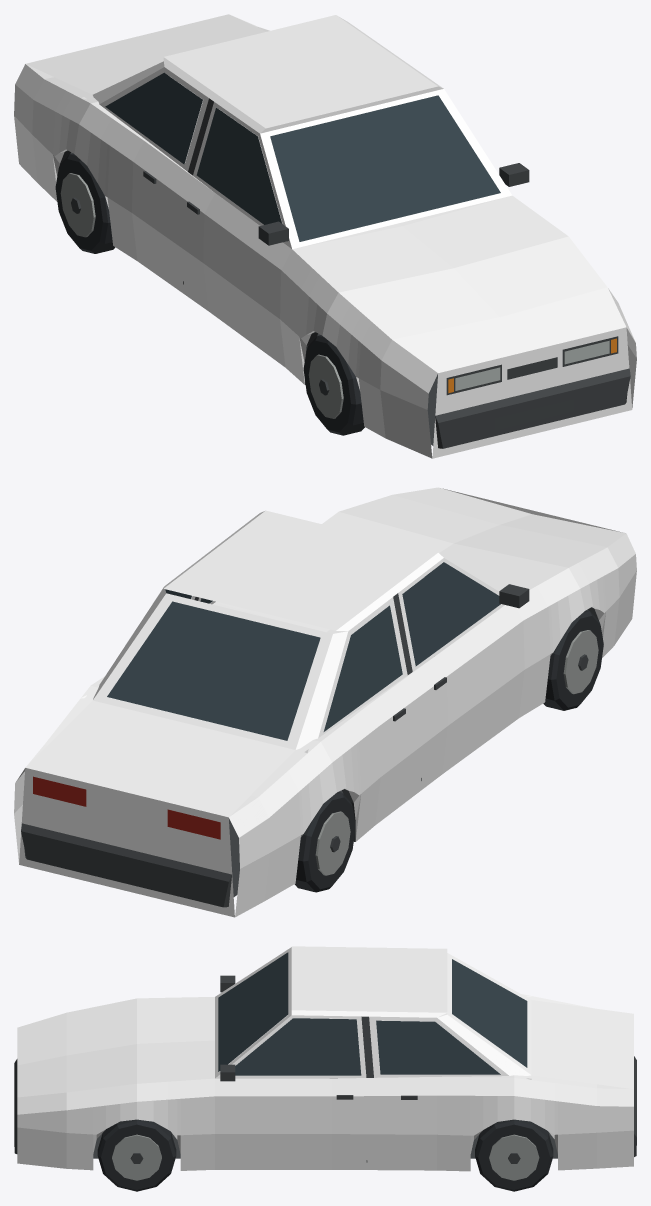
Rendered from kanaya_wakaba.glb.
3 views of the same model, one above another, from view 1: azimuth 30°, elevation 25°; view 2: azimuth 150°, elevation 25°; view 3: azimuth 270°, elevation 25° (orthographic). The views are drawn at different scales.
Parts seen in each view (by area): view 1: kanaya_wakaba; view 2: kanaya_wakaba; view 3: kanaya_wakaba.
Boxes of the visible parts, x1,y1,x2,y2 form: kanaya_wakaba: (14,14,636,458); kanaya_wakaba: (14,487,636,917); kanaya_wakaba: (14,946,636,1191).
Size of the model in its own units: 1.82 by 1.46 by 4.92.
Materials: 8 (1 with a texture image).
